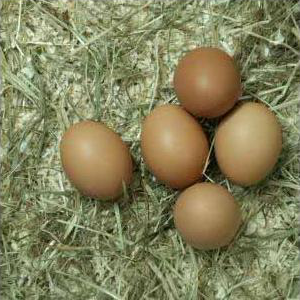egg: (212, 101, 282, 188), (60, 120, 133, 201), (140, 105, 210, 189), (174, 48, 242, 119), (173, 182, 243, 249)
